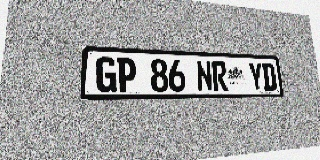6: (168, 59, 186, 92)
8: (150, 59, 169, 92)
D: (261, 63, 277, 91)
G: (96, 57, 116, 92)
N: (196, 60, 213, 92)
P: (117, 57, 136, 92)
R: (211, 61, 228, 91)
Y: (248, 62, 264, 91)
